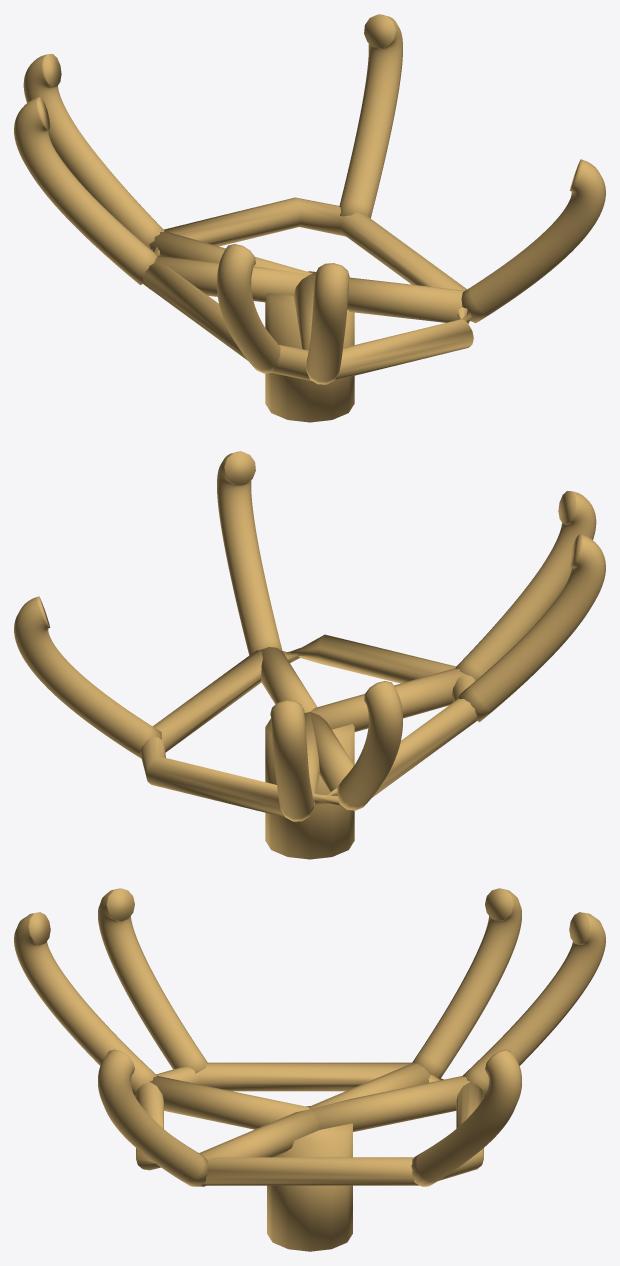
The model's file is stuller-lg-500060535-6-prong.glb.
3 renders of one model, top to bottom at view 1: azimuth 30°, elevation 25°; view 2: azimuth 150°, elevation 25°; view 3: azimuth 270°, elevation 25°, orthographic. The views are drawn at different scales.
Parts seen in each view (by area): view 1: Metal.077, Metal.084, Metal.082, Metal.087, Metal.083, Metal.076, Metal.085, Metal.086, Metal.078, Metal.080, Metal.079, Metal.081; view 2: Metal.077, Metal.085, Metal.087, Metal.082, Metal.086, Metal.076, Metal.084, Metal.083, Metal.081, Metal.078, Metal.080, Metal.079; view 3: Metal.077, Metal.076, Metal.084, Metal.085, Metal.083, Metal.086, Metal.082, Metal.087, Metal.079, Metal.081, Metal.078, Metal.080.
Boxes of the visible parts, bbox=[...] form: Metal.077: bbox=[143, 197, 473, 381]; Metal.084: bbox=[14, 97, 157, 285]; Metal.082: bbox=[339, 14, 402, 218]; Metal.087: bbox=[461, 159, 605, 323]; Metal.083: bbox=[23, 54, 164, 248]; Metal.076: bbox=[265, 271, 354, 422]; Metal.085: bbox=[217, 244, 280, 373]; Metal.086: bbox=[306, 263, 349, 384]; Metal.078: bbox=[310, 273, 469, 322]; Metal.080: bbox=[149, 255, 309, 302]; Metal.079: bbox=[149, 231, 312, 274]; Metal.081: bbox=[294, 275, 315, 350]; Metal.077: bbox=[140, 634, 476, 817]; Metal.085: bbox=[458, 534, 605, 722]; Metal.087: bbox=[217, 451, 282, 655]; Metal.082: bbox=[14, 596, 162, 758]; Metal.086: bbox=[455, 491, 596, 680]; Metal.076: bbox=[265, 718, 354, 859]; Metal.084: bbox=[337, 681, 402, 810]; Metal.083: bbox=[270, 700, 313, 821]; Metal.081: bbox=[310, 668, 464, 731]; Metal.078: bbox=[260, 647, 317, 712]; Metal.080: bbox=[310, 712, 354, 808]; Metal.079: bbox=[304, 711, 319, 813]; Metal.077: bbox=[135, 1062, 483, 1185]; Metal.076: bbox=[267, 1106, 352, 1251]; Metal.084: bbox=[412, 888, 521, 1078]; Metal.085: bbox=[98, 888, 207, 1073]; Metal.083: bbox=[462, 912, 605, 1097]; Metal.086: bbox=[14, 912, 156, 1096]; Metal.082: bbox=[411, 1049, 521, 1186]; Metal.087: bbox=[98, 1049, 208, 1186]; Metal.079: bbox=[310, 1076, 469, 1131]; Metal.081: bbox=[150, 1076, 309, 1129]; Metal.078: bbox=[198, 1109, 319, 1186]; Metal.080: bbox=[308, 1063, 430, 1108].
Bounding box in the file's own units: 5.95 × 4.06 × 8.24.
